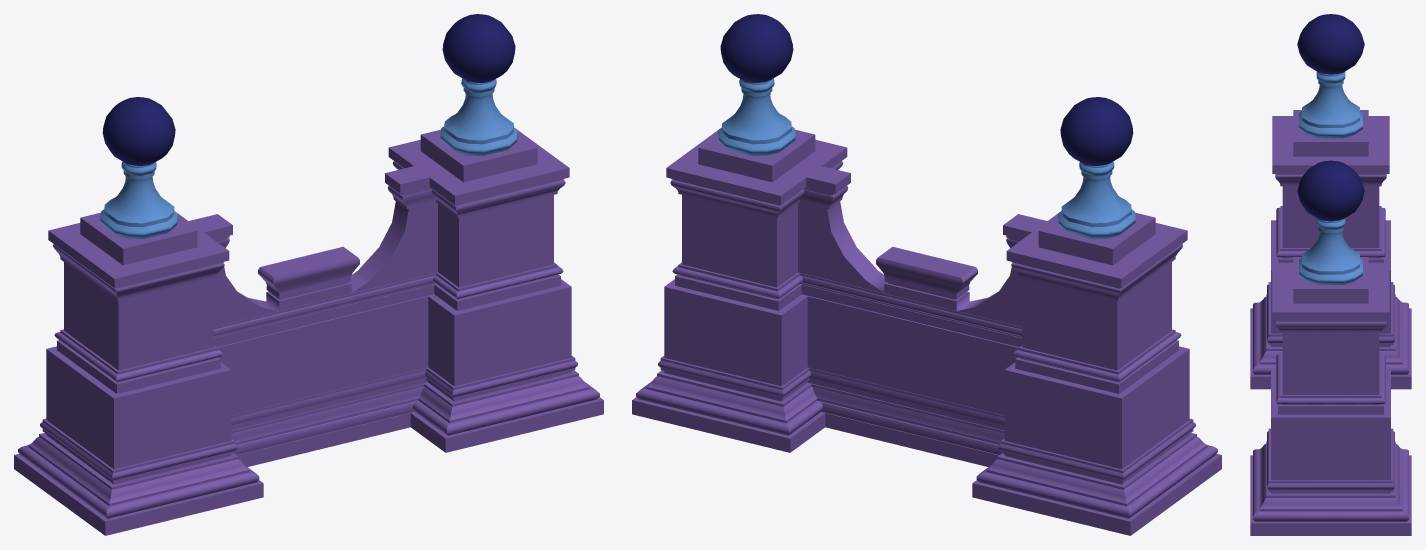
File: Pilar003_nuevo.fbx
3 views of the same model, side by side, from view 1: azimuth 30°, elevation 25°; view 2: azimuth 150°, elevation 25°; view 3: azimuth 270°, elevation 25° (orthographic). The views are drawn at different scales.
Parts seen in each view (by area): view 1: Box153, Sphere004, Sphere003, Cylinder077, Cylinder078; view 2: Box153, Sphere004, Sphere003, Cylinder077, Cylinder078; view 3: Box153, Sphere003, Sphere004, Cylinder077, Cylinder078.
Boxes of the visible parts, <box> form: Box153: <box>14,128,603,535</box>; Sphere004: <box>442,14,515,83</box>; Sphere003: <box>102,97,175,165</box>; Cylinder077: <box>100,161,177,238</box>; Cylinder078: <box>440,78,517,155</box>; Box153: <box>632,128,1221,535</box>; Sphere004: <box>720,14,793,83</box>; Sphere003: <box>1060,97,1133,165</box>; Cylinder077: <box>1058,161,1135,238</box>; Cylinder078: <box>718,78,795,155</box>; Box153: <box>1250,110,1411,535</box>; Sphere003: <box>1297,14,1364,74</box>; Sphere004: <box>1297,160,1364,221</box>; Cylinder077: <box>1299,71,1362,138</box>; Cylinder078: <box>1299,218,1362,284</box>.
Size of the model in its own units: 245 by 179 by 77.66.
